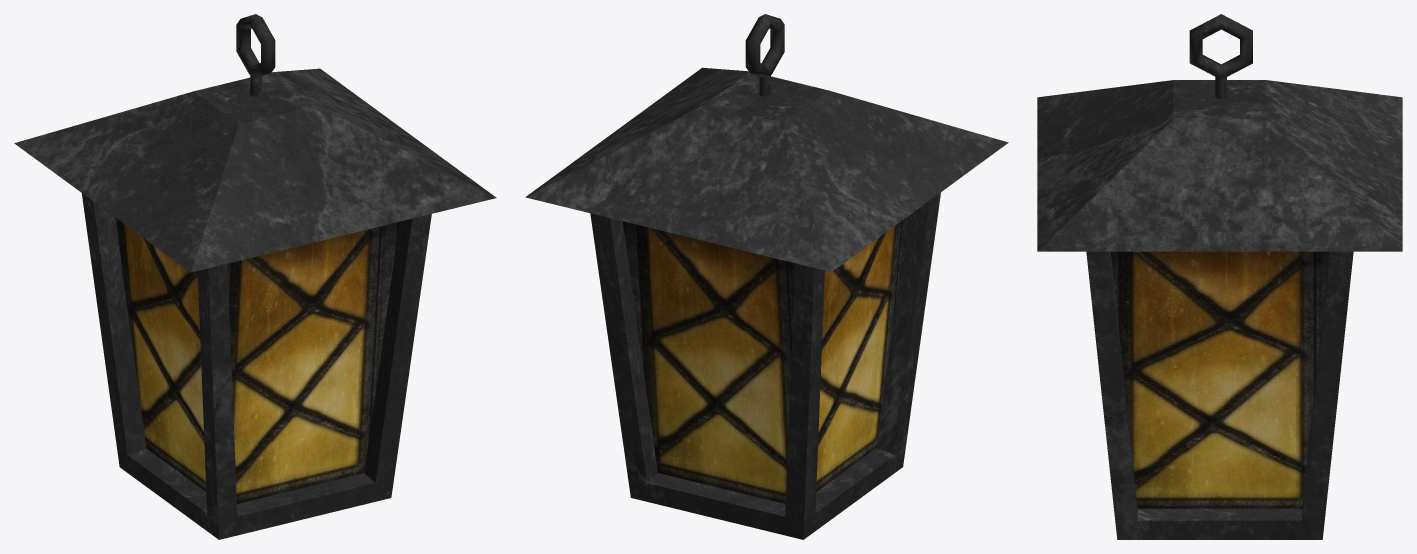
File: Lantern_MOD.FBX
The picture shows the model from 3 angles, left to right: view 1: azimuth 30°, elevation 25°; view 2: azimuth 150°, elevation 25°; view 3: azimuth 270°, elevation 25°; orthographic projection. The views are drawn at different scales.
Parts seen in each view (by area): view 1: Lantern; view 2: Lantern; view 3: Lantern.
Part boxes in pixels (bbox=[...]): Lantern: bbox=[14, 14, 496, 539]; Lantern: bbox=[525, 14, 1008, 539]; Lantern: bbox=[1037, 14, 1402, 539].
Bounding box in the file's own units: 25.7 × 37.53 × 25.7.
